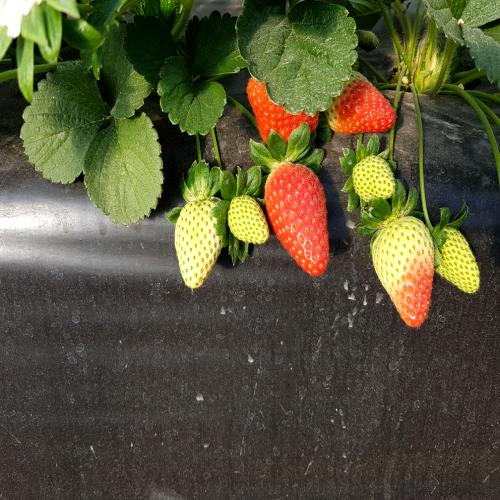partially-ripe: (371, 208, 439, 332)
ripe: (256, 152, 339, 282), (244, 67, 322, 150)
